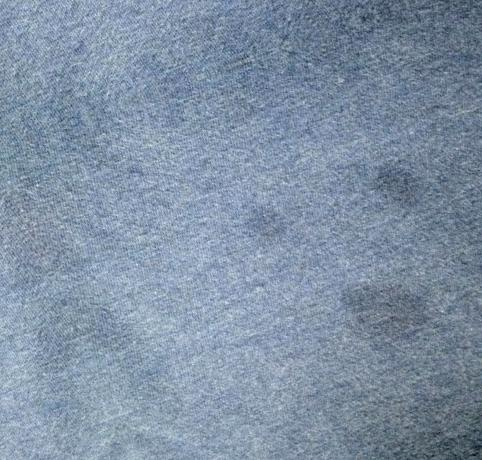stain: (334, 277, 442, 353), (229, 202, 294, 252), (370, 160, 428, 210)
